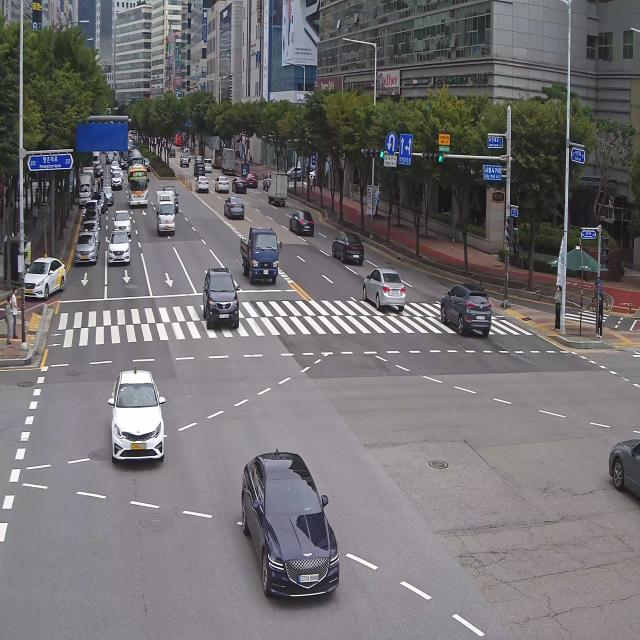Bus: (126, 162, 150, 211)
Car: (237, 445, 345, 602), (105, 363, 168, 469), (437, 276, 495, 341), (200, 262, 242, 331), (360, 264, 410, 314), (22, 250, 67, 303), (328, 228, 367, 270), (105, 226, 132, 272), (286, 208, 318, 237), (74, 229, 97, 269), (220, 195, 247, 223), (80, 222, 101, 252), (162, 183, 181, 214), (282, 162, 306, 184), (114, 208, 132, 236), (84, 207, 103, 227), (92, 192, 109, 214), (231, 174, 247, 197), (82, 198, 101, 217), (212, 175, 230, 195), (244, 170, 258, 191), (195, 175, 209, 194), (102, 186, 115, 205), (111, 173, 123, 193), (262, 169, 272, 191), (192, 160, 204, 178), (178, 152, 190, 169), (202, 156, 213, 173), (142, 154, 151, 171), (93, 163, 104, 176), (114, 167, 125, 180), (106, 154, 116, 166), (111, 160, 120, 172), (194, 155, 202, 165), (170, 147, 176, 158)
Truck: (236, 222, 282, 288), (154, 186, 178, 238), (264, 168, 290, 212), (217, 148, 239, 175), (79, 172, 93, 206), (210, 146, 224, 170), (128, 147, 142, 165), (119, 147, 127, 167), (81, 167, 94, 178), (182, 148, 192, 162), (92, 150, 100, 166), (175, 132, 182, 147)
